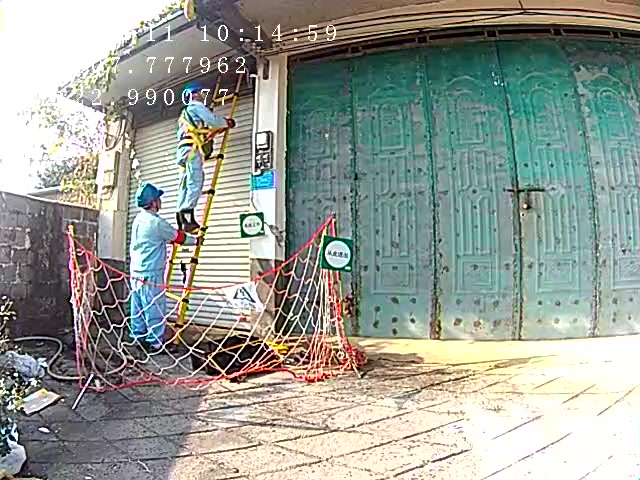halt: (139, 187, 167, 215), (184, 84, 210, 107)
